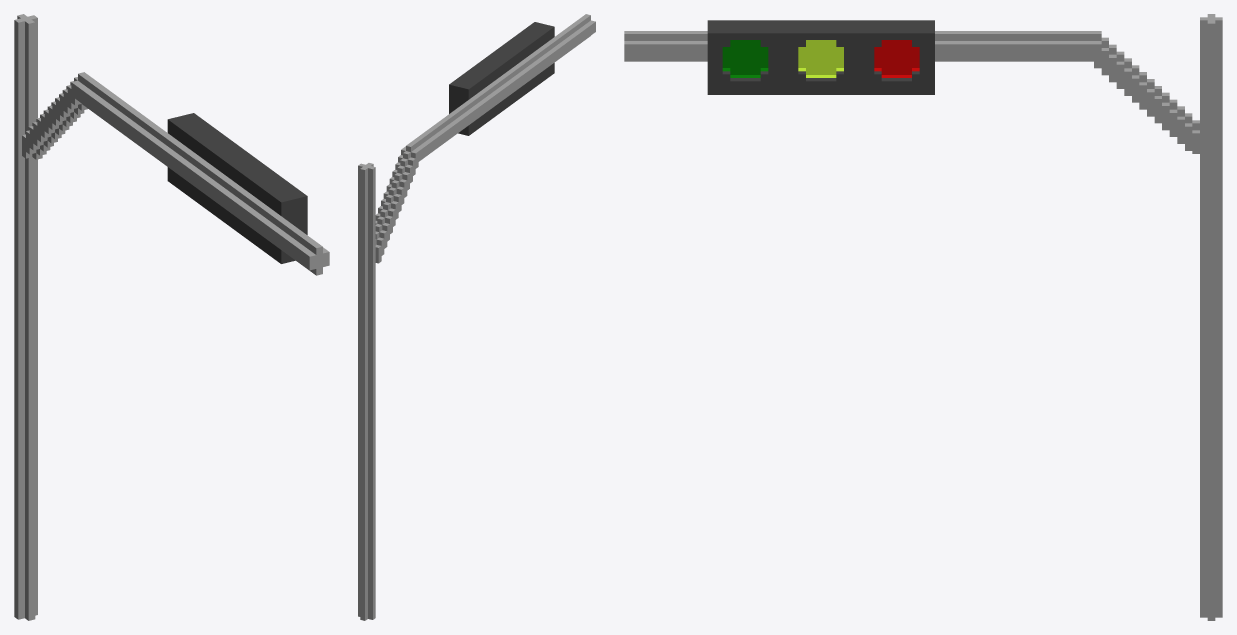
The model's file is Traffic Signal.obj.
The picture shows the model from 3 angles, left to right: view 1: azimuth 30°, elevation 25°; view 2: azimuth 150°, elevation 25°; view 3: azimuth 270°, elevation 25°; orthographic projection. The views are drawn at different scales.
Bounding box in the file's own units: 0.6 × 8.7 × 7.9.
Materials: 1 (1 with a texture image).
